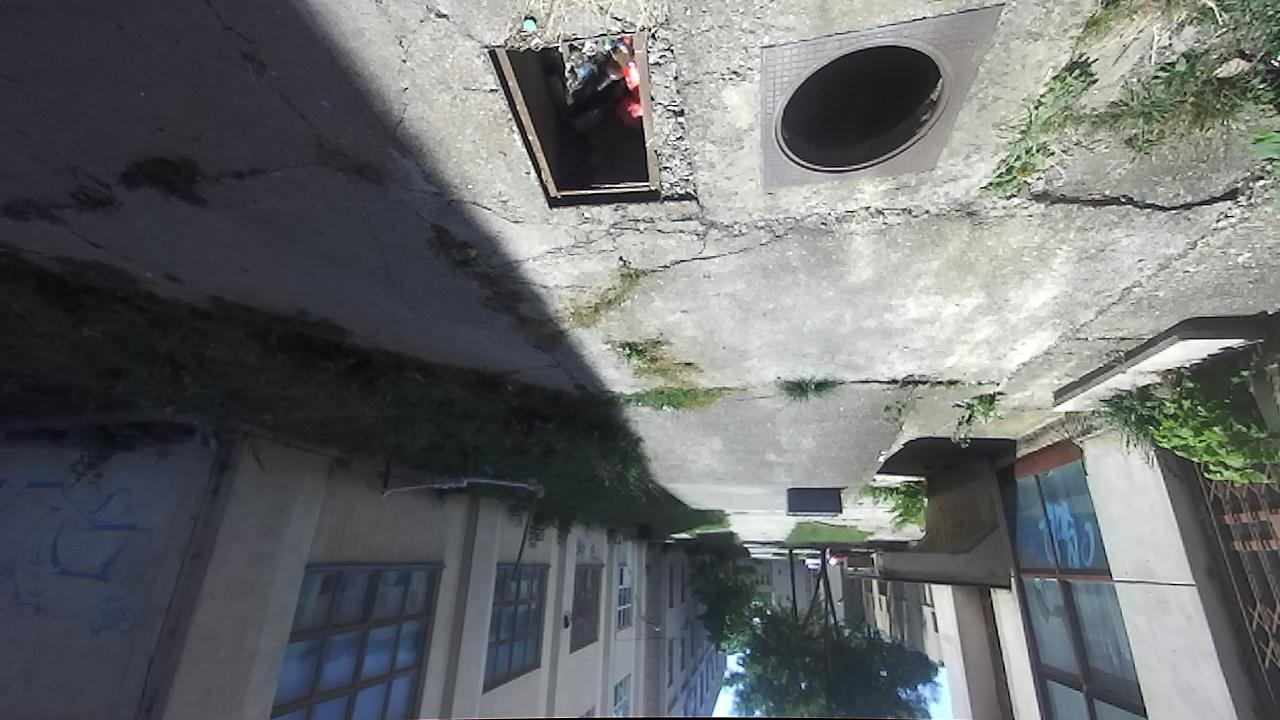drain: (485, 33, 667, 211), (769, 40, 957, 177)
